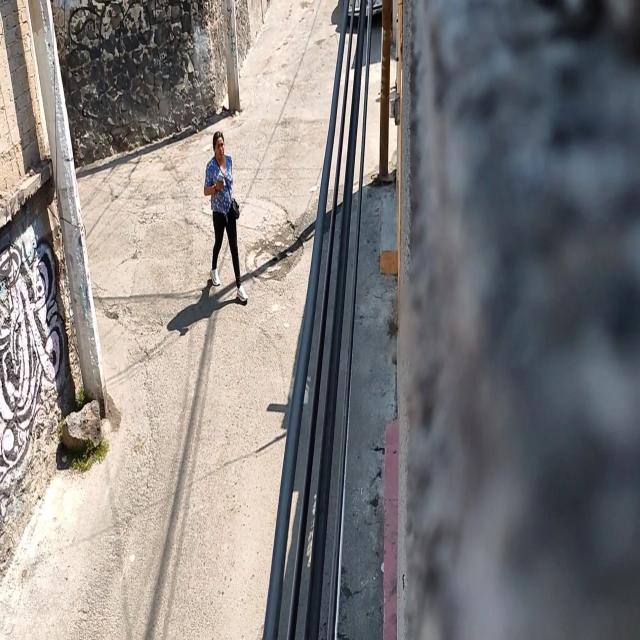adult: (204, 131, 248, 306)
